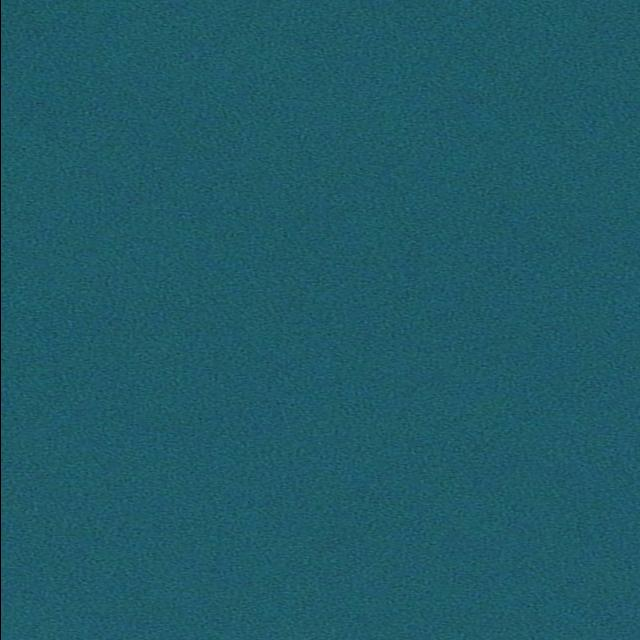water: (1, 0, 640, 640)
